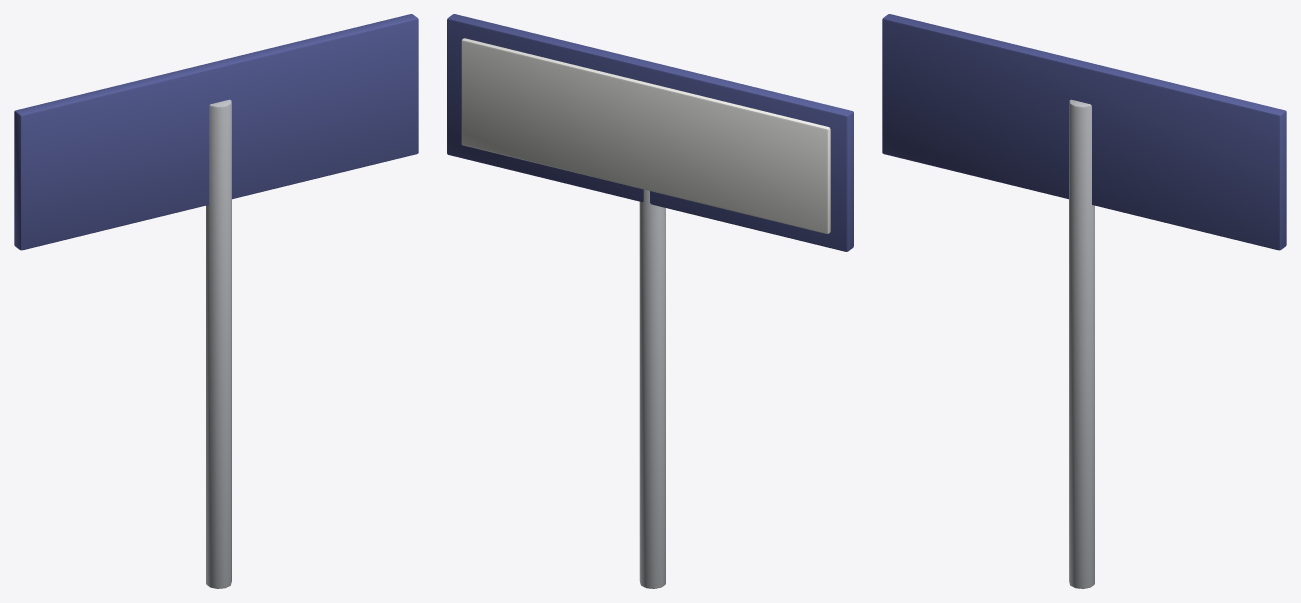
Rendered from th5_ortsschild.glb.
3 views of the same model, side by side, from view 1: azimuth 30°, elevation 25°; view 2: azimuth 150°, elevation 25°; view 3: azimuth 330°, elevation 25° (orthographic).
Parts seen in each view (by area): view 1: Cube, Cylinder; view 2: Cube.001, Cube, Cylinder; view 3: Cube, Cylinder.
Part boxes in pixels (box(x1,y1,x2,y2)): Cube: box(14, 14, 418, 250); Cylinder: box(206, 99, 231, 588); Cube.001: box(461, 38, 830, 233); Cube: box(447, 14, 853, 251); Cylinder: box(639, 189, 665, 588); Cube: box(882, 14, 1286, 250); Cylinder: box(1069, 99, 1094, 588).
Size of the model in its own units: 1.9 by 2.36 by 0.125.
